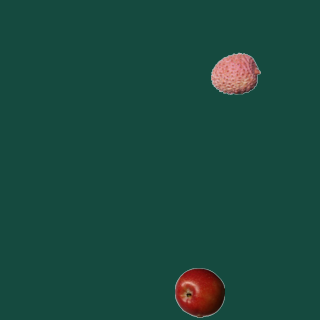Apple Braeburn: (174, 267, 224, 317)
Lychee: (210, 48, 260, 98)
